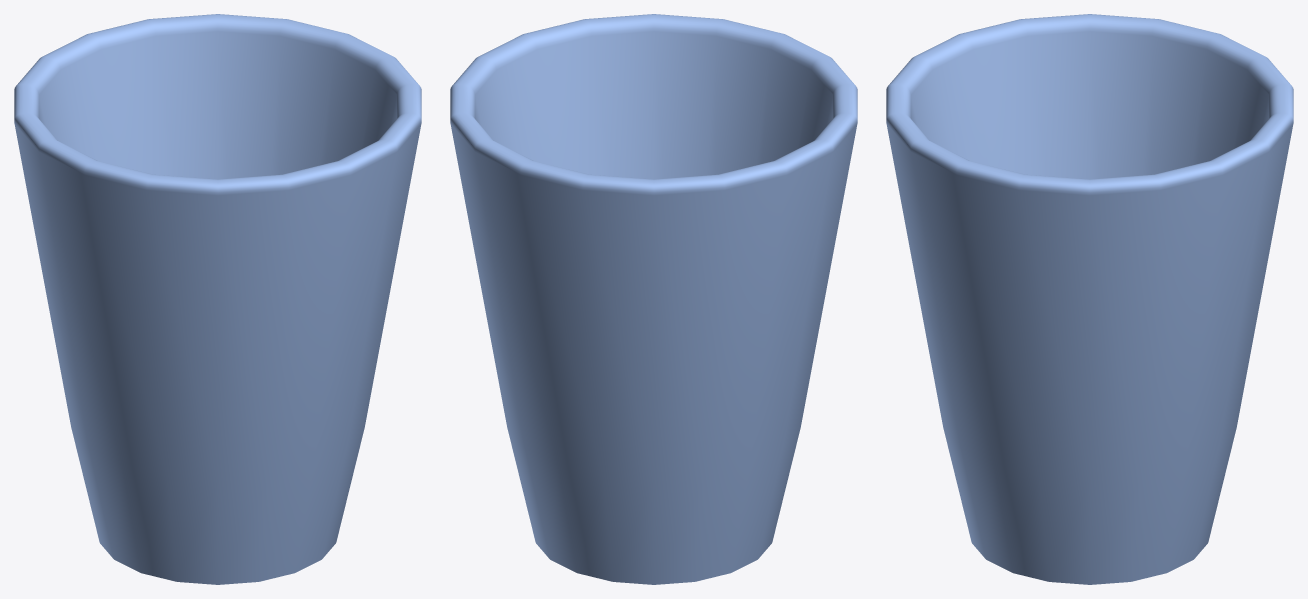
File: Kitchen_Cup.fbx
3 views of the same model, side by side, from view 1: azimuth 30°, elevation 25°; view 2: azimuth 150°, elevation 25°; view 3: azimuth 270°, elevation 25° (orthographic).
Parts seen in each view (by area): view 1: Cup002; view 2: Cup002; view 3: Cup002.
Boxes of the visible parts, left/top/right/bottom form: Cup002: left=14, top=14, right=421, bottom=584; Cup002: left=450, top=14, right=857, bottom=584; Cup002: left=886, top=14, right=1293, bottom=584.
Bounding box in the file's own units: 3.9 × 4.53 × 3.84.
